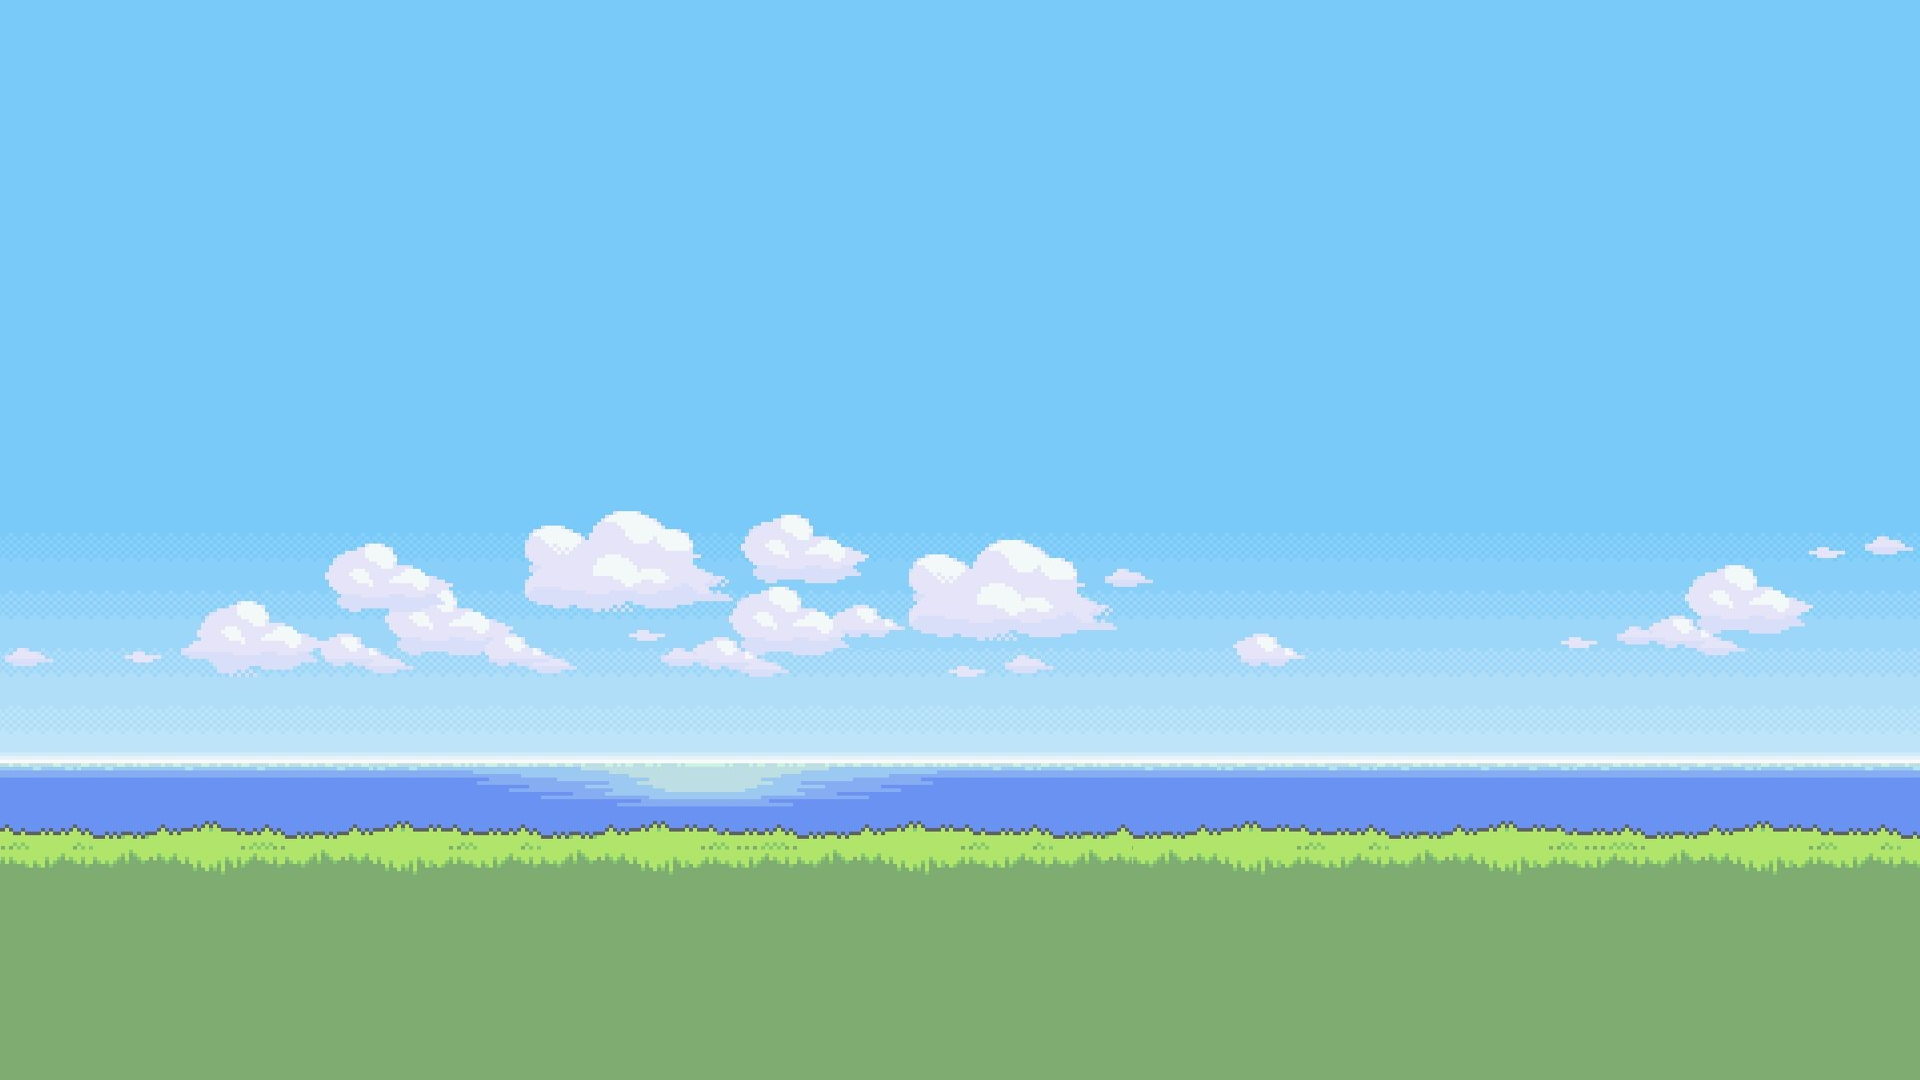beemonster: (1716, 243, 1756, 281), (123, 204, 164, 243), (781, 369, 822, 407)
character: (485, 756, 554, 825)
door: (1735, 390, 1874, 531)
flymonster: (909, 571, 949, 609), (869, 367, 910, 405), (1477, 475, 1518, 513)
ground: (1458, 705, 1916, 823), (1636, 601, 1917, 702), (15, 795, 345, 837)
ground_empty: (1, 841, 1916, 1079)
ground_grass: (1015, 533, 1472, 563), (1121, 291, 1576, 320), (357, 607, 812, 636), (253, 419, 708, 448), (386, 251, 841, 280)
monster: (1829, 547, 1870, 585), (1114, 480, 1155, 518), (767, 539, 800, 574), (1396, 236, 1428, 272), (1305, 477, 1337, 513), (69, 750, 100, 785), (373, 534, 405, 568)
smallmonster: (609, 365, 650, 404), (1218, 239, 1259, 277), (186, 733, 227, 771), (1211, 483, 1251, 521), (458, 360, 498, 398), (458, 187, 498, 225), (727, 187, 767, 225)
window: (3, 324, 554, 1080)
